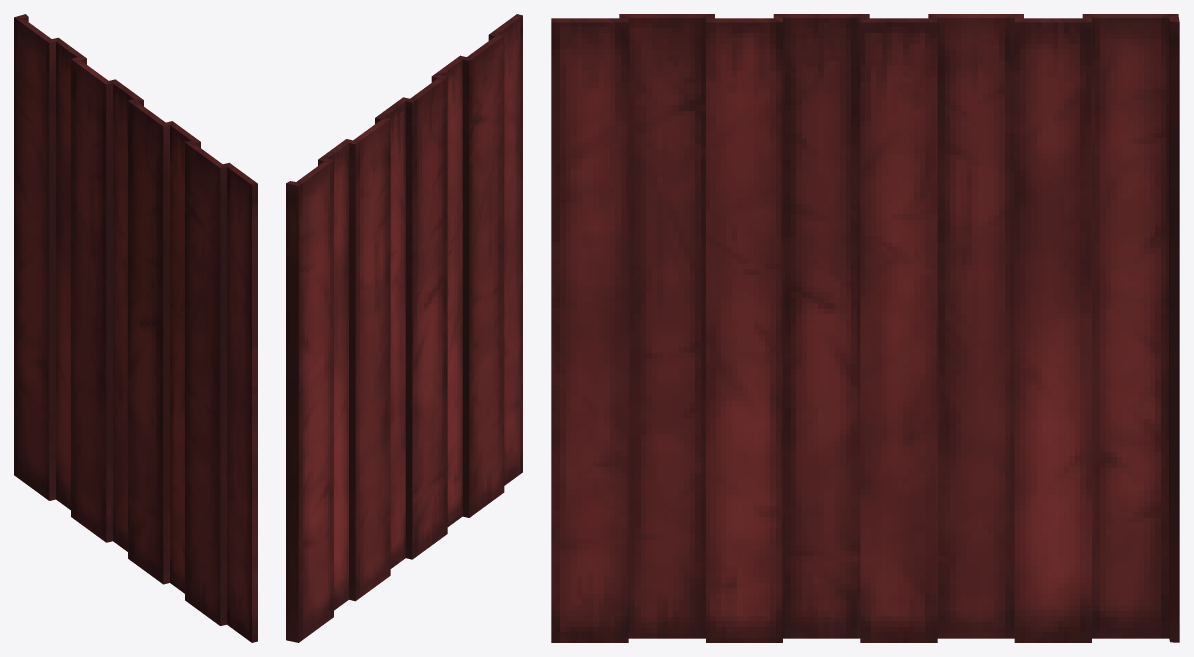
File: RedSheetWall.glb
3 renders of one model, left to right at view 1: azimuth 30°, elevation 25°; view 2: azimuth 150°, elevation 25°; view 3: azimuth 270°, elevation 25°, orthographic. The views are drawn at different scales.
Visible parts, largest first — view 1: Plane.043; view 2: Plane.043; view 3: Plane.043.
Part boxes in pixels (box(x1,y1,x2,y2)): Plane.043: box(14, 14, 257, 642); Plane.043: box(286, 14, 522, 642); Plane.043: box(551, 14, 1179, 642).
Size of the model in its own units: 0.1804 by 6.31 by 5.79.
Materials: 1 (1 with a texture image).
